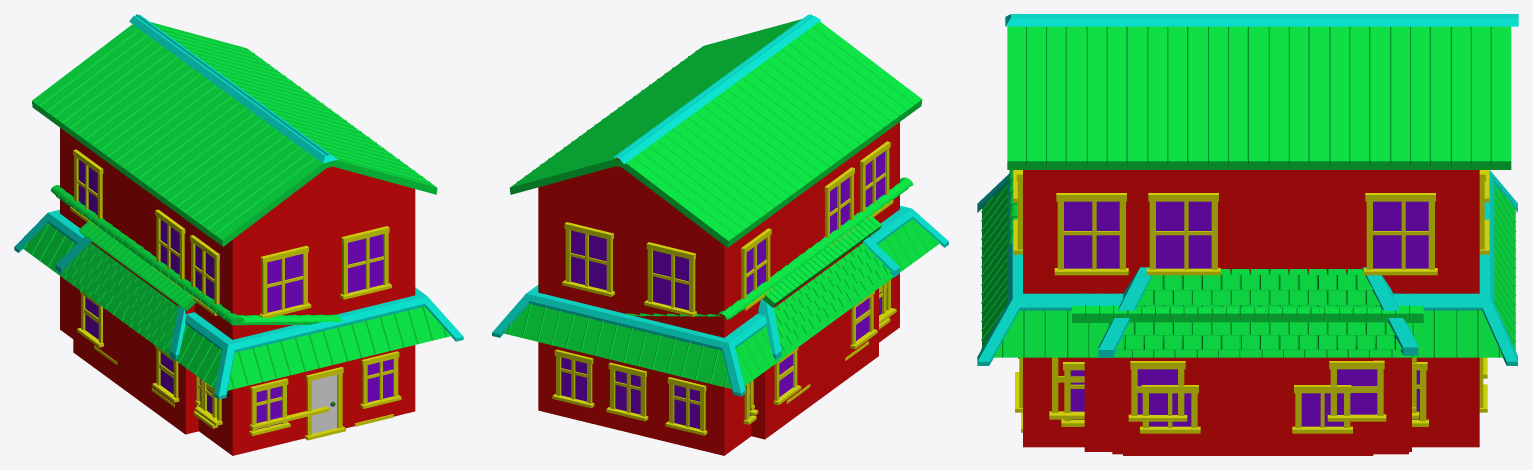
The model's file is Houses.fbx.
The picture shows the model from 3 angles, left to right: view 1: azimuth 30°, elevation 25°; view 2: azimuth 150°, elevation 25°; view 3: azimuth 270°, elevation 25°; orthographic projection. The views are drawn at different scales.
Visible parts, largest first — view 1: House_03, House_02, House_06, House_01; view 2: House_03, House_02, House_06, House_01; view 3: House_03, House_02, House_01, House_04, House_06.
Boxes of the visible parts, x1,y1,x2,y2 form: House_03: (14, 14, 463, 455); House_02: (55, 236, 200, 434); House_06: (50, 185, 393, 429); House_01: (79, 221, 196, 407); House_03: (492, 14, 948, 455); House_02: (749, 237, 899, 439); House_06: (626, 177, 913, 415); House_01: (762, 215, 881, 403); House_03: (977, 14, 1518, 447); House_02: (1098, 267, 1418, 454); House_01: (1123, 309, 1373, 455); House_04: (1072, 293, 1423, 451); House_06: (1008, 170, 1419, 432).
Bounding box in the file's own units: 8.51 × 9.39 × 12.31.
